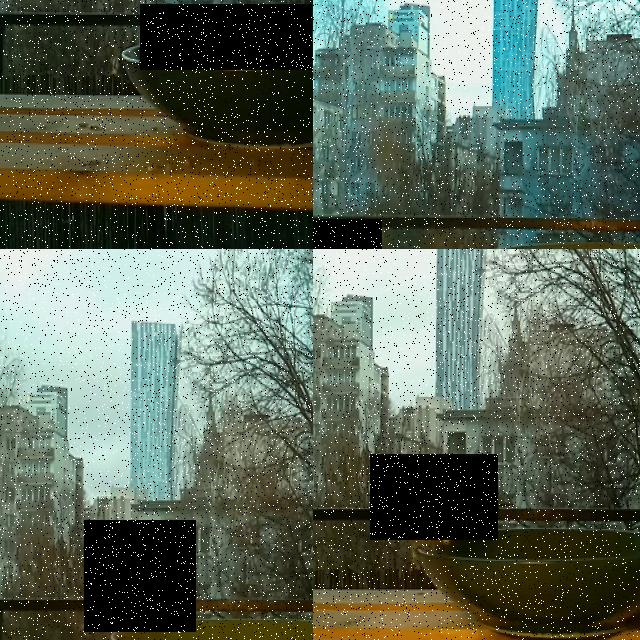Bogatka: (84, 520, 196, 632), (370, 454, 498, 540)
Modraszka: (313, 219, 382, 249)
Wrobel: (140, 4, 312, 70)
